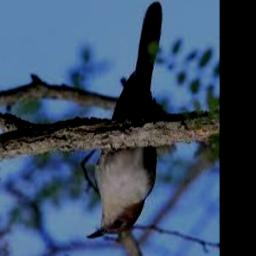Cuckoo: (86, 2, 163, 239)
